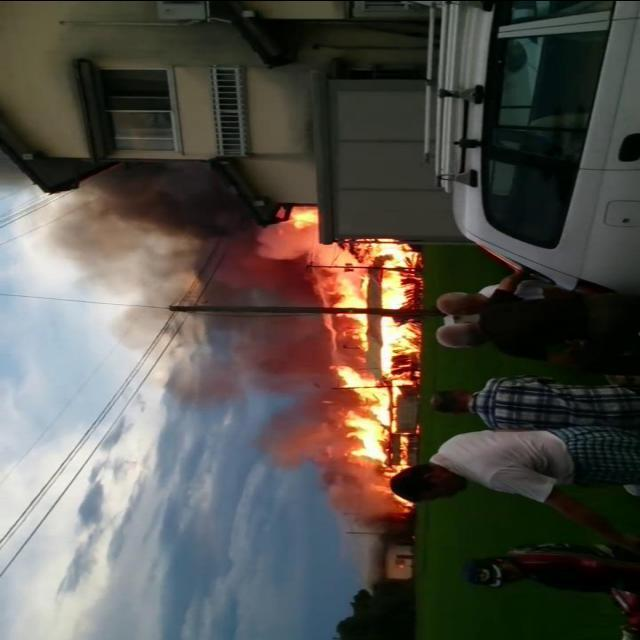Fire: (337, 239, 416, 475), (372, 482, 409, 512), (284, 207, 322, 225)
